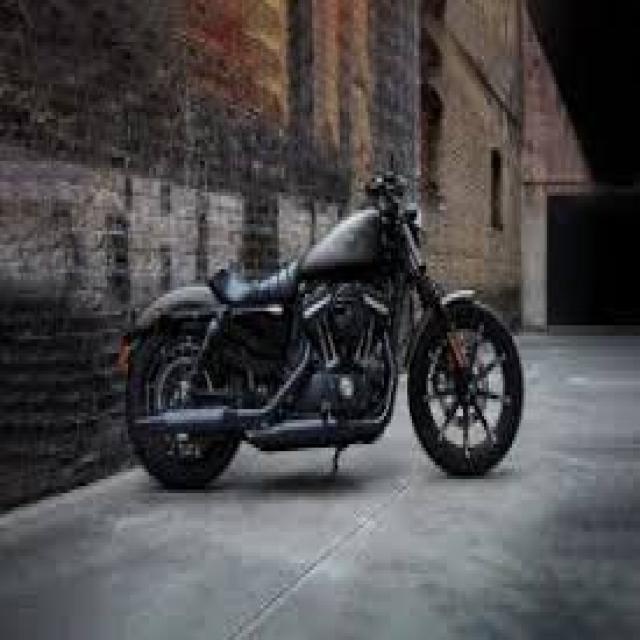Bike: (121, 164, 528, 492)
